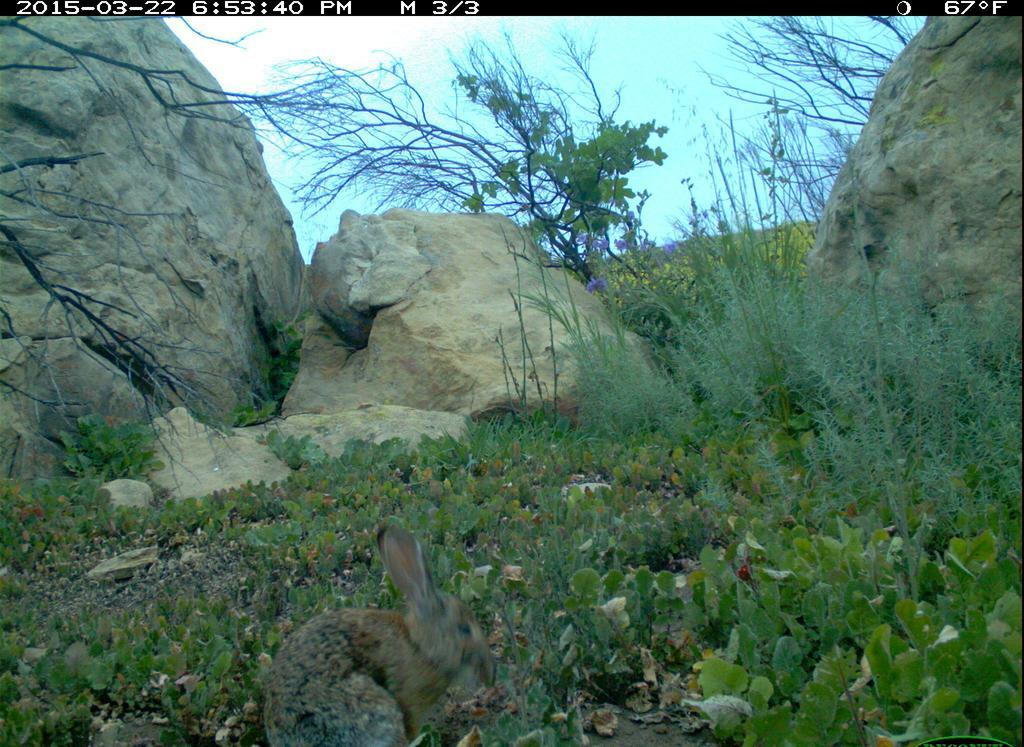rabbit: (241, 516, 505, 744)
